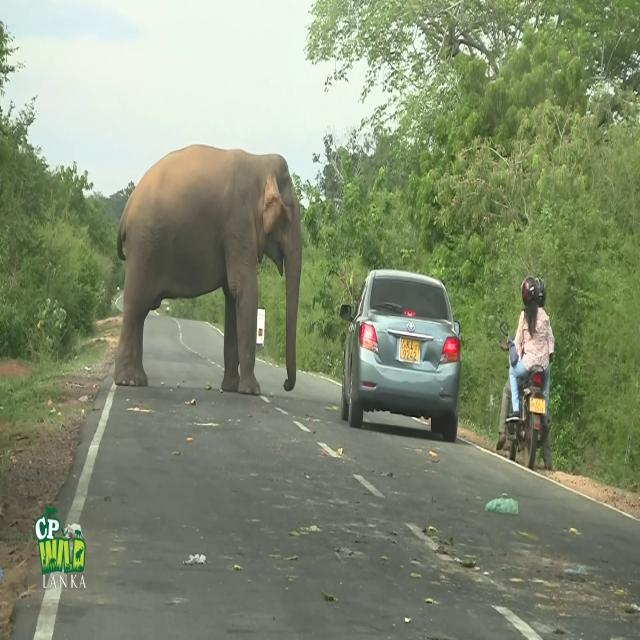Elephant: (113, 143, 303, 395)
person: (506, 276, 555, 424)
